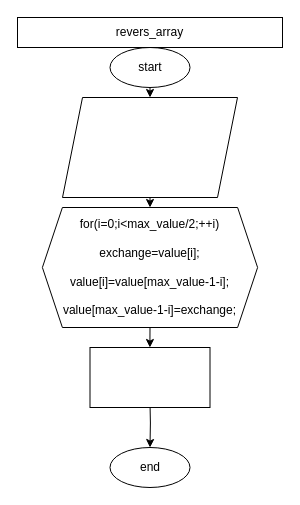
The diagram is 300 pixels wide and 505 high, and some of its shapes have lost their labels. The centre of each missing label's shape, as x and y in pixels:
"max_value =7; value[max_value]; exchange; average_element;" goes at (x=150, y=147).
"print value[max_value];" goes at (x=149, y=377).
